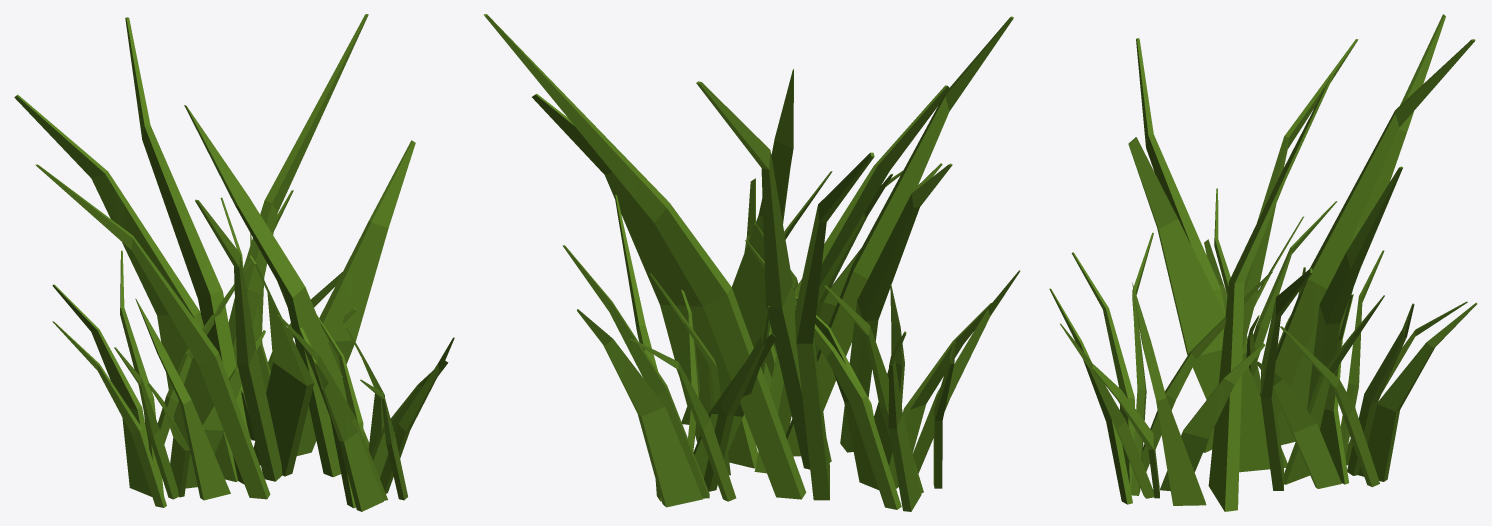
The model's file is PastoGd.fbx.
3 views of the same model, side by side, from view 1: azimuth 30°, elevation 25°; view 2: azimuth 150°, elevation 25°; view 3: azimuth 270°, elevation 25° (orthographic). The views are drawn at different scales.
Visible parts, largest first — view 1: PastoG; view 2: PastoG; view 3: PastoG.
Boxes of the visible parts, box(x1,y1,x2,y2) form: PastoG: box(14, 14, 454, 511); PastoG: box(483, 14, 1020, 511); PastoG: box(1049, 14, 1477, 511).
Size of the model in its own units: 92.82 by 91.69 by 95.77.
Materials: 1 (1 with a texture image).
